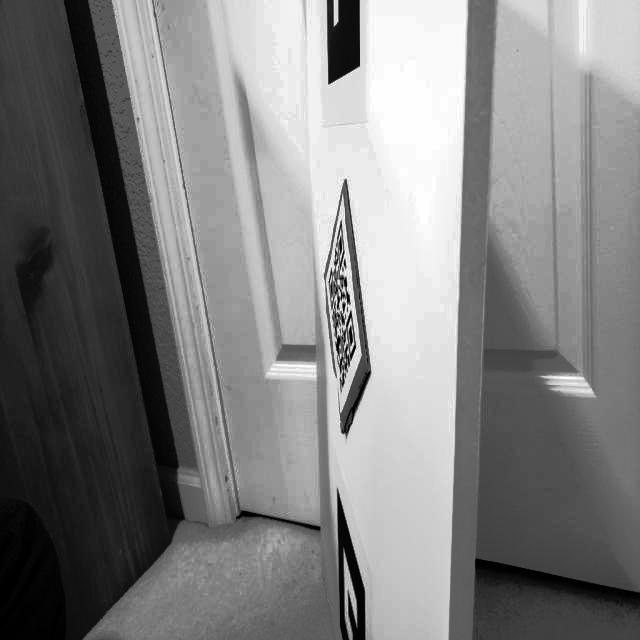qr_code: (321, 211, 364, 404)
